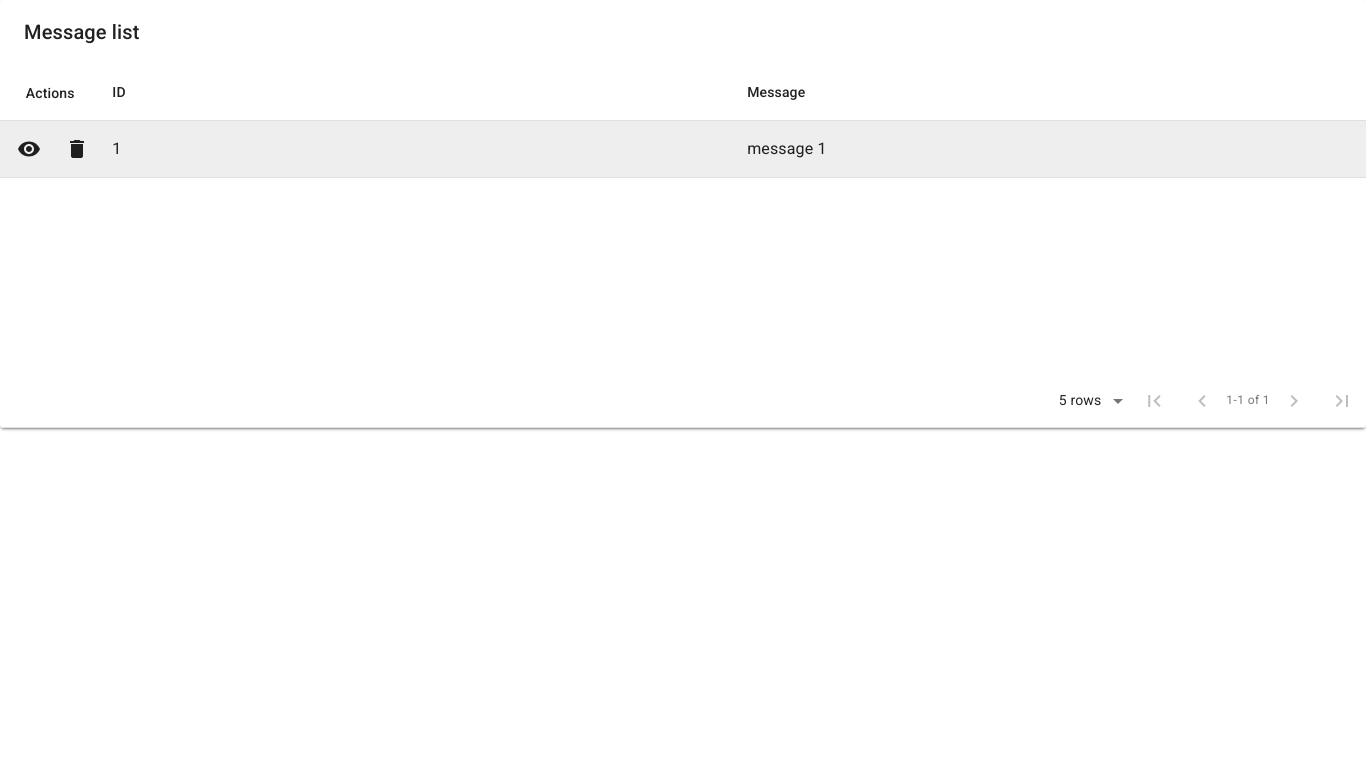
Test: UnitTest_TableView › Should show dialog info
Step 1. Click the button titled "View Message" → (29, 149), box [5, 125, 53, 173]
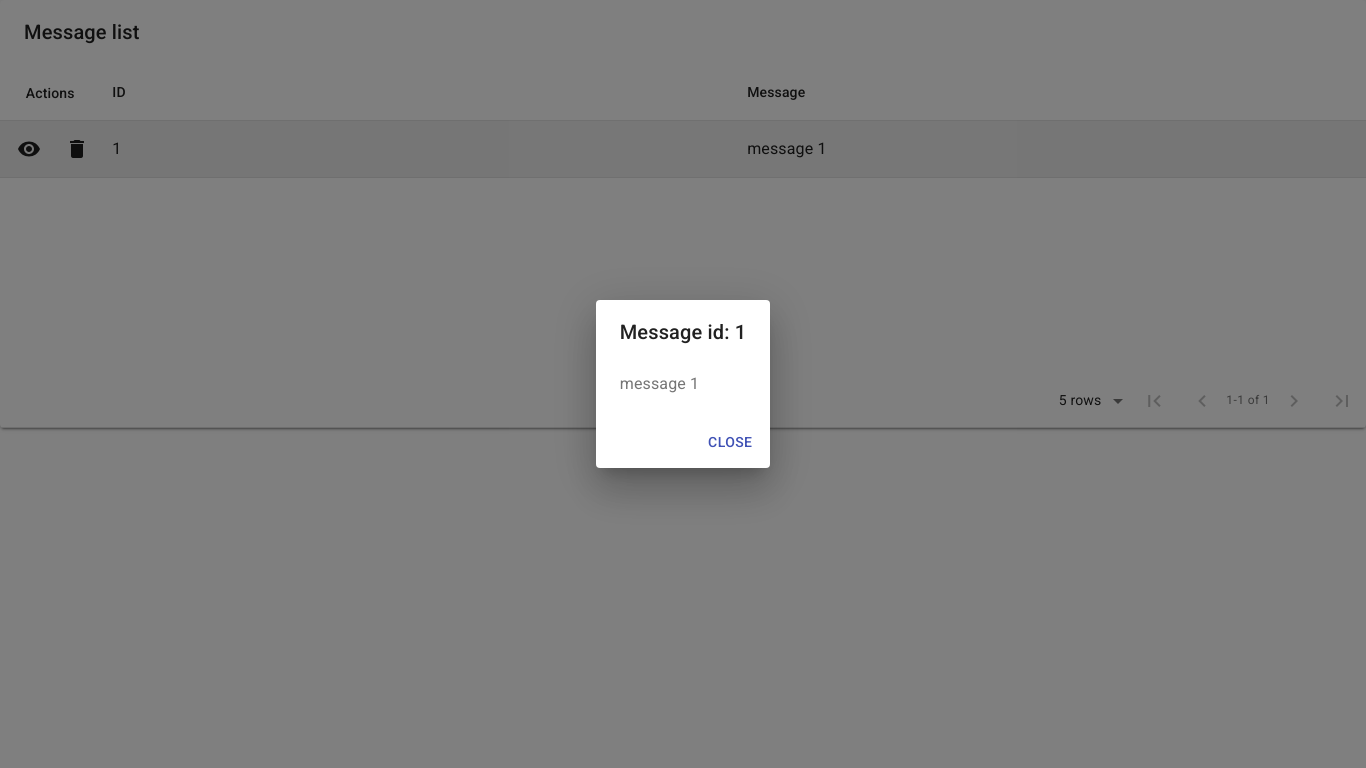
Check: the element with test id "test-dialog" is shown
